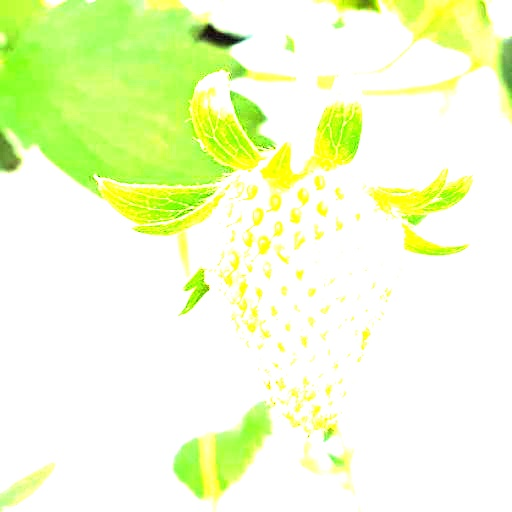Powdery Mildew Fruit: (200, 153, 407, 435)
